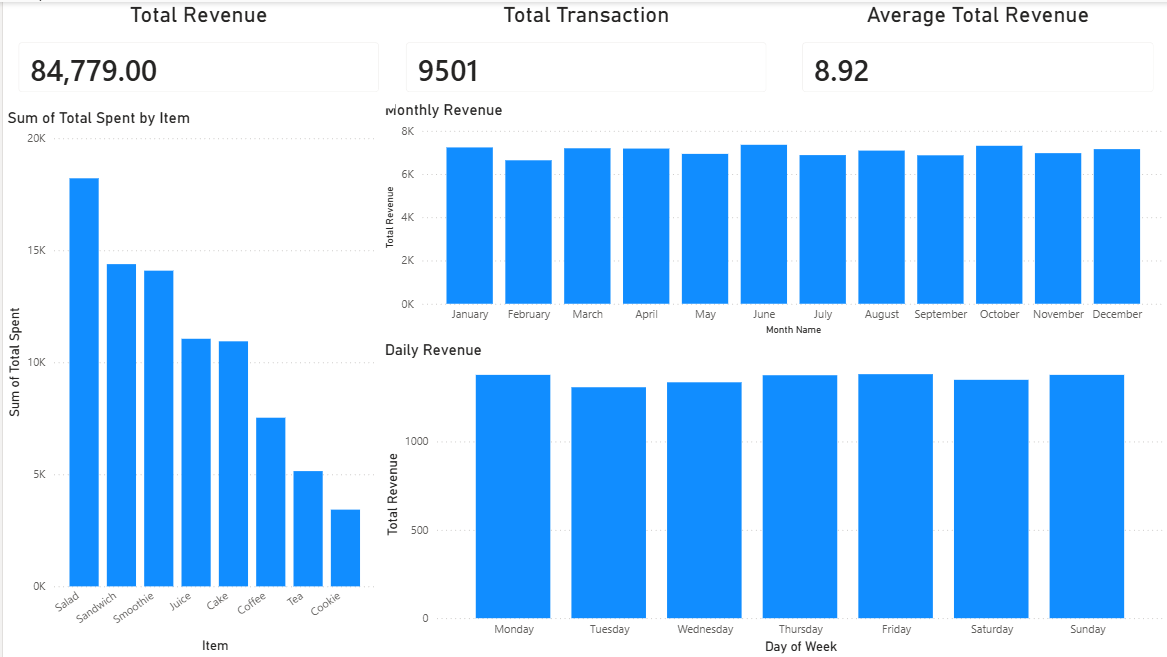

The dashboard page shown, as its layout file describes it:
{"tool":"powerbi","page":{"name":"Page 1","canvas":[1280,720],"ordinal":0},"visuals":[{"type":"cardVisual","title":"Total Transaction","fields":{"Data":["cafe_sales_cleaned.Total Customer"]},"box":[425.7,0,430,117.1],"z":1},{"type":"cardVisual","title":"Average Total Revenue","fields":{"Data":["Avg(cafe_sales_cleaned.Total Spent)"]},"box":[860,0,420,117.1],"z":2},{"type":"columnChart","fields":{"Y":["Sum(cafe_sales_cleaned.Total Spent)"],"Category":["cafe_sales_cleaned.Item"]},"box":[0,117.1,414.3,602.9],"z":3},{"type":"columnChart","title":"Monthly Revenue","fields":{"Y":["Sum(cafe_sales_cleaned.Total Spent)"],"Category":["cafe_sales_cleaned.Month Name"]},"box":[414.3,108.6,865.7,262.9],"z":4},{"type":"columnChart","title":"Daily Revenue","fields":{"Y":["cafe_sales_cleaned.Total Transaction"],"Category":["cafe_sales_cleaned.Day of Week"]},"box":[414.3,371.4,865.7,348.6],"z":5},{"type":"cardVisual","title":"Total Revenue","fields":{"Data":["Sum(cafe_sales_cleaned.Total Spent)"]},"box":[0,0,430,117.1],"z":6}]}

Visuals, with their boxes in screenshot pixels (x1, y1, x2, y2), scaled from the page's 1280x720 canvas onto the 1167x657 screenshot:
"Total Transaction" cardVisual: x1=388 y1=0 x2=780 y2=107
"Average Total Revenue" cardVisual: x1=784 y1=0 x2=1166 y2=107
columnChart - Sum(cafe_sales_cleaned.Total Spent) x cafe_sales_cleaned.Item: x1=0 y1=107 x2=378 y2=656
"Monthly Revenue" columnChart: x1=378 y1=99 x2=1166 y2=339
"Daily Revenue" columnChart: x1=378 y1=339 x2=1166 y2=656
"Total Revenue" cardVisual: x1=0 y1=0 x2=392 y2=107
